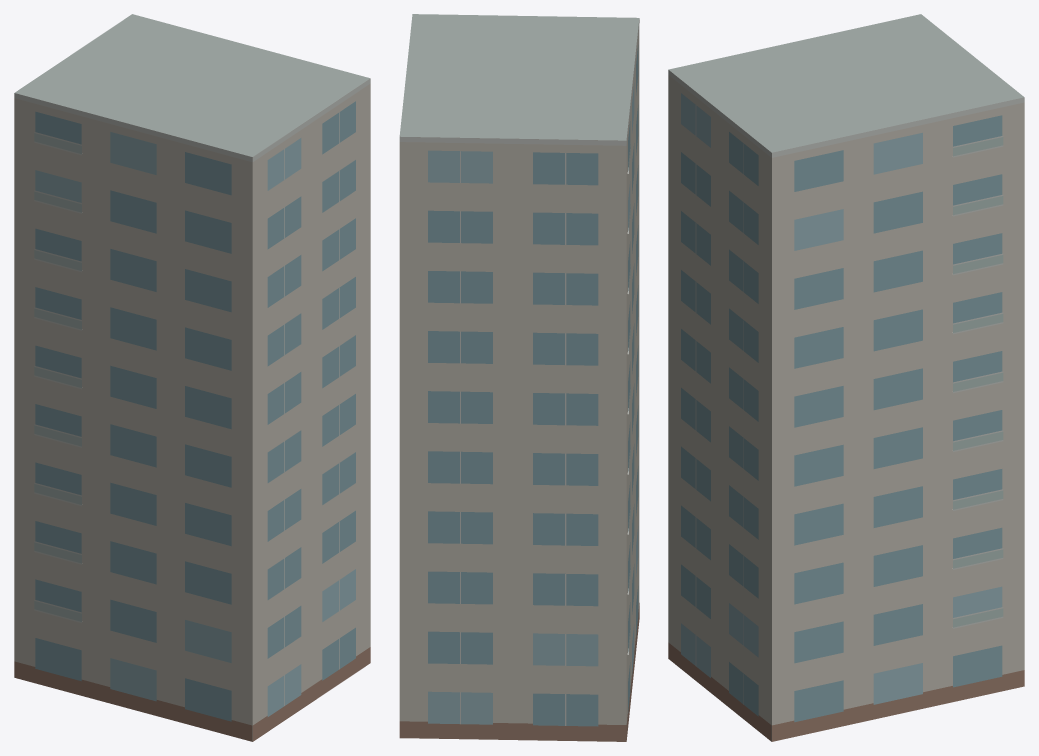
File: survey-upis-32653706.glb
3 views of the same model, side by side, from view 1: azimuth 30°, elevation 25°; view 2: azimuth 150°, elevation 25°; view 3: azimuth 270°, elevation 25° (orthographic). The views are drawn at different scales.
Visible parts, largest first — view 1: survey-upis-32653706.tmp; view 2: survey-upis-32653706.tmp; view 3: survey-upis-32653706.tmp.
Boxes of the visible parts, x1,y1,x2,y2 form: survey-upis-32653706.tmp: [14, 14, 370, 741]; survey-upis-32653706.tmp: [399, 14, 639, 741]; survey-upis-32653706.tmp: [668, 14, 1024, 741].
Size of the model in its own units: 14.05 by 27.8 by 15.25.
